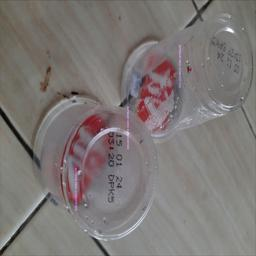plastic: (35, 14, 253, 241)
